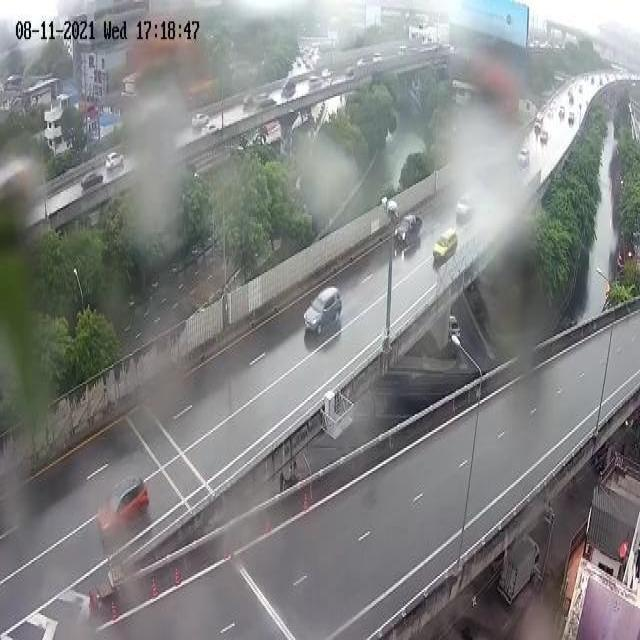Car: (96, 473, 148, 550), (302, 284, 344, 338), (392, 211, 422, 251), (431, 225, 458, 268)
